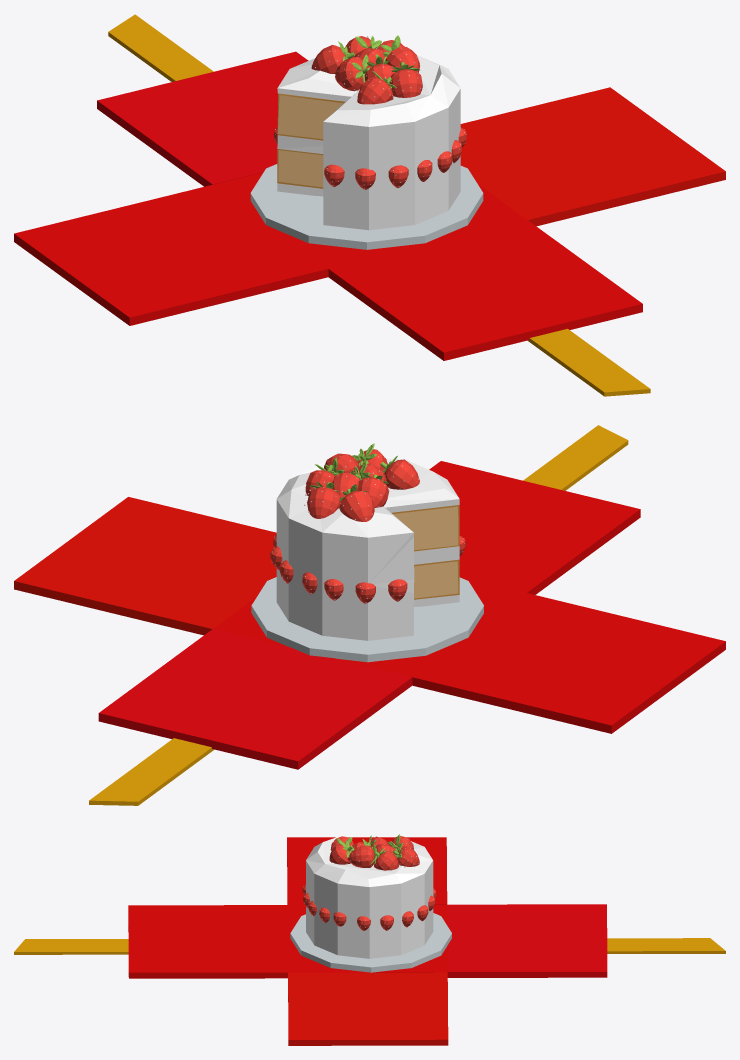
File: combined.glb
The picture shows the model from 3 angles, top to bottom: view 1: azimuth 30°, elevation 25°; view 2: azimuth 150°, elevation 25°; view 3: azimuth 270°, elevation 25°; orthographic projection. The views are drawn at different scales.
Parts seen in each view (by area): view 1: Cube.001, Cube, node_MeshObject-122084544-PolyPaper21, Cube.003, Cube.002, node_MeshObject-1823451520-PolyPaper9, Cube.005, Cube.004, node_MeshObject915355584-PolyPaper6, node_MeshObject1434075648-PolyPaper9, node_MeshObject1952795712-PolyPaper9, node_MeshObject396635520-PolyPaper8; view 2: Cube.001, Cube.002, node_MeshObject-122084544-PolyPaper21, Cube.003, Cube, node_MeshObject-1823451520-PolyPaper9, Cube.005, Cube.004, node_MeshObject1434075648-PolyPaper9, node_MeshObject1952795712-PolyPaper9, node_MeshObject396635520-PolyPaper8, node_MeshObject915355584-PolyPaper6; view 3: Cube, Cube.003, Cube.002, node_MeshObject-122084544-PolyPaper21, Cube.005, node_MeshObject-1823451520-PolyPaper9, Cube.001, Cube.004, node_MeshObject396635520-PolyPaper8, node_MeshObject915355584-PolyPaper6, node_MeshObject1434075648-PolyPaper9, node_MeshObject1952795712-PolyPaper9.
Boxes of the visible parts, <box> form: Cube.001: <box>14,184,328,325</box>; Cube: <box>328,220,642,360</box>; node_MeshObject-122084544-PolyPaper21: <box>274,41,460,230</box>; Cube.003: <box>460,87,725,226</box>; Cube.002: <box>97,51,308,186</box>; node_MeshObject-1823451520-PolyPaper9: <box>250,36,483,249</box>; Cube.005: <box>108,14,650,396</box>; Cube.004: <box>213,172,526,268</box>; node_MeshObject915355584-PolyPaper6: <box>364,57,461,187</box>; node_MeshObject1434075648-PolyPaper9: <box>335,35,421,104</box>; node_MeshObject1952795712-PolyPaper9: <box>311,36,396,101</box>; node_MeshObject396635520-PolyPaper8: <box>324,127,466,189</box>; Cube.001: <box>412,593,725,733</box>; Cube.002: <box>98,629,412,769</box>; node_MeshObject-122084544-PolyPaper21: <box>276,453,459,640</box>; Cube.003: <box>14,497,276,635</box>; Cube: <box>429,461,640,594</box>; node_MeshObject-1823451520-PolyPaper9: <box>251,482,483,662</box>; Cube.005: <box>89,425,628,805</box>; Cube.004: <box>213,577,525,676</box>; node_MeshObject1434075648-PolyPaper9: <box>305,448,419,507</box>; node_MeshObject1952795712-PolyPaper9: <box>307,456,418,521</box>; node_MeshObject396635520-PolyPaper8: <box>270,535,465,600</box>; node_MeshObject915355584-PolyPaper6: <box>327,443,387,484</box>; Cube: <box>128,905,288,978</box>; Cube.003: <box>288,972,448,1045</box>; Cube.002: <box>447,904,607,977</box>; node_MeshObject-122084544-PolyPaper21: <box>306,836,433,958</box>; Cube.005: <box>14,938,725,954</box>; node_MeshObject-1823451520-PolyPaper9: <box>290,848,451,972</box>; Cube.001: <box>287,837,447,904</box>; Cube.004: <box>288,905,447,972</box>; node_MeshObject396635520-PolyPaper8: <box>303,886,436,930</box>; node_MeshObject915355584-PolyPaper6: <box>302,839,372,923</box>; node_MeshObject1434075648-PolyPaper9: <box>330,835,398,870</box>; node_MeshObject1952795712-PolyPaper9: <box>333,834,419,866</box>.
Size of the model in its own units: 1.54 by 0.3963 by 2.28.
